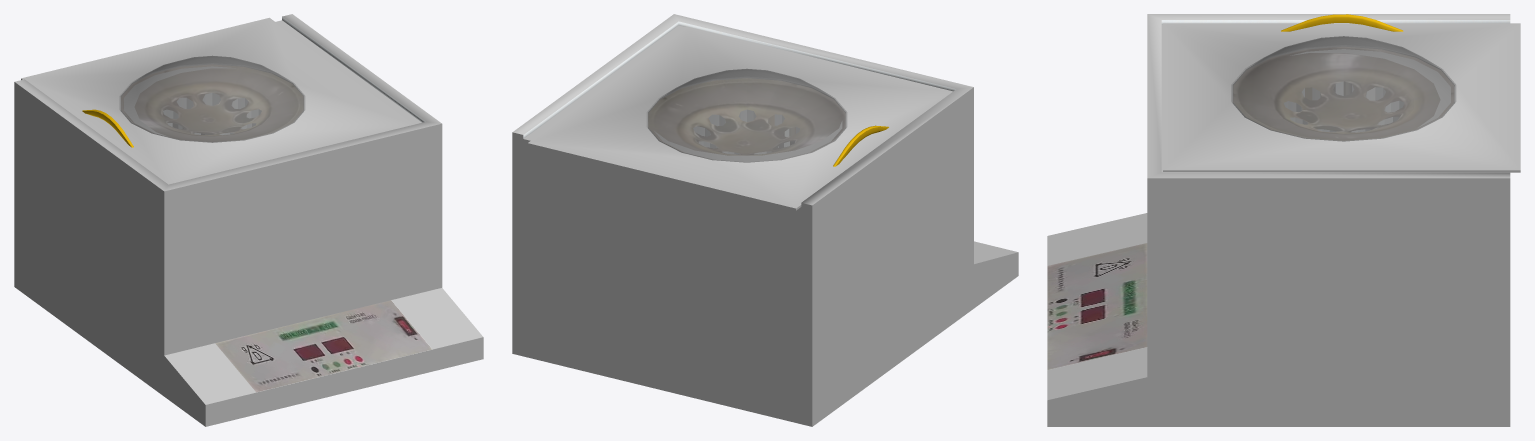
The model's file is SM_乳脂离心机.fbx.
3 views of the same model, side by side, from view 1: azimuth 30°, elevation 25°; view 2: azimuth 150°, elevation 25°; view 3: azimuth 270°, elevation 25° (orthographic). The views are drawn at different scales.
Parts seen in each view (by area): view 1: SM_乳脂离心机; view 2: SM_乳脂离心机; view 3: SM_乳脂离心机.
Part boxes in pixels (bbox=[...]): SM_乳脂离心机: bbox=[14, 14, 483, 426]; SM_乳脂离心机: bbox=[512, 14, 1018, 426]; SM_乳脂离心机: bbox=[1047, 14, 1520, 426].
Bounding box in the file's own units: 0.4191 × 0.3385 × 0.5105.
